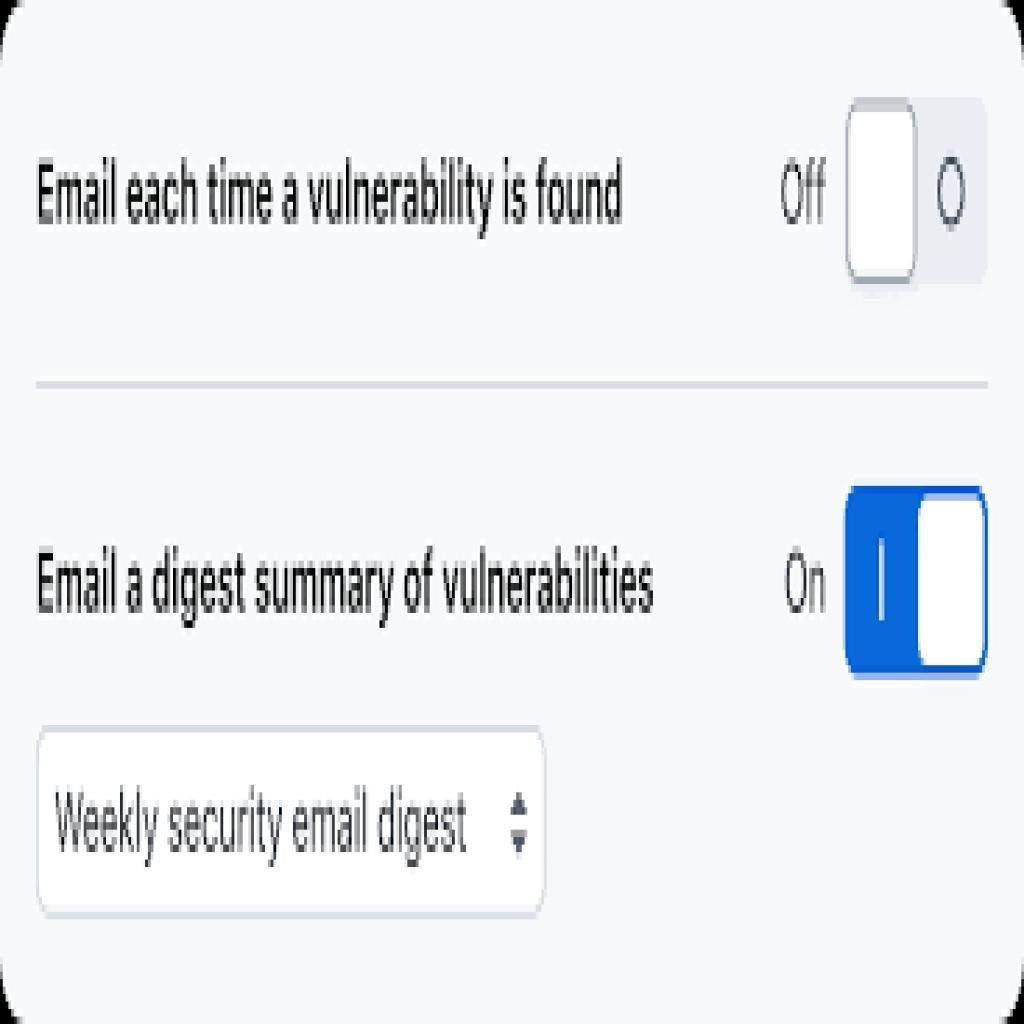icon: (508, 782, 534, 861)
input: (41, 732, 503, 914)
label: (32, 541, 664, 639), (24, 145, 638, 244)
switch: (844, 486, 991, 683), (846, 101, 991, 287)
